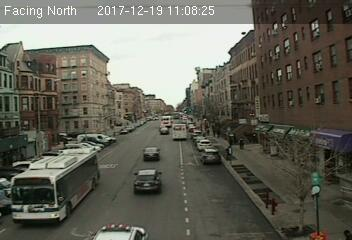bus: (10, 147, 101, 225)
car: (132, 168, 163, 193), (200, 148, 221, 163), (141, 146, 160, 160)
truck: (171, 123, 187, 141)
